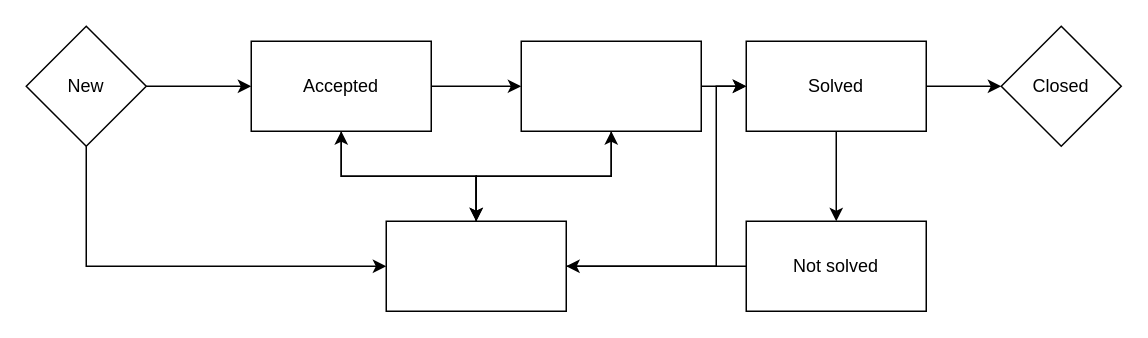
The diagram is 1148 pixels wide and 338 high, and some of its shapes have lost their labels. The box of each missing label's shape, as (x1, y1, x2, y2) in pixels:
Await response: (385, 220, 566, 311)
Ongoing: (520, 40, 701, 131)
